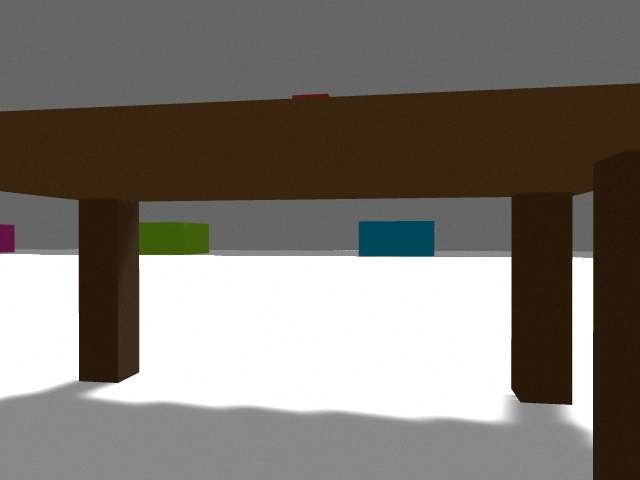blue_drop_zone: (359, 221, 435, 256)
green_drop_zone: (139, 222, 209, 255)
red_drop_zone: (0, 224, 15, 253)
